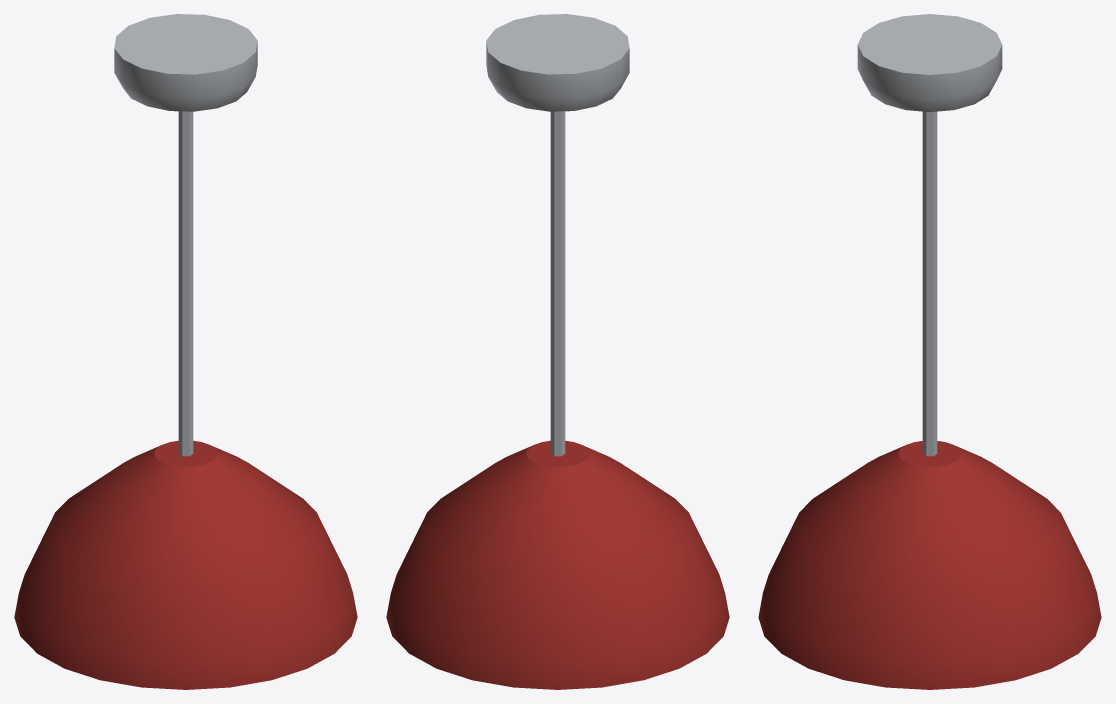
File: prop_pendant_diner.glb
The picture shows the model from 3 angles, left to right: view 1: azimuth 30°, elevation 25°; view 2: azimuth 150°, elevation 25°; view 3: azimuth 270°, elevation 25°; orthographic projection.
Parts seen in each view (by area): view 1: Pendant; view 2: Pendant; view 3: Pendant.
Boxes of the visible parts, x1,y1,x2,y2 form: Pendant: (14,14,357,689); Pendant: (386,14,729,689); Pendant: (758,14,1101,689).
Size of the model in its own units: 0.38 by 0.765 by 0.38.
